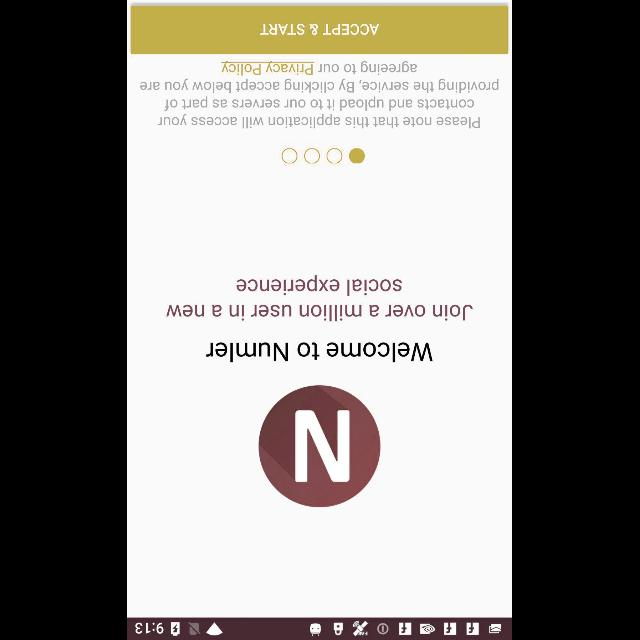image: (260, 385, 382, 507)
pageindicator: (282, 148, 366, 164)
text: (140, 61, 500, 129), (166, 275, 474, 321), (206, 342, 434, 362)
textbutton: (131, 5, 509, 54)
uppertaskbar: (128, 617, 512, 639)
